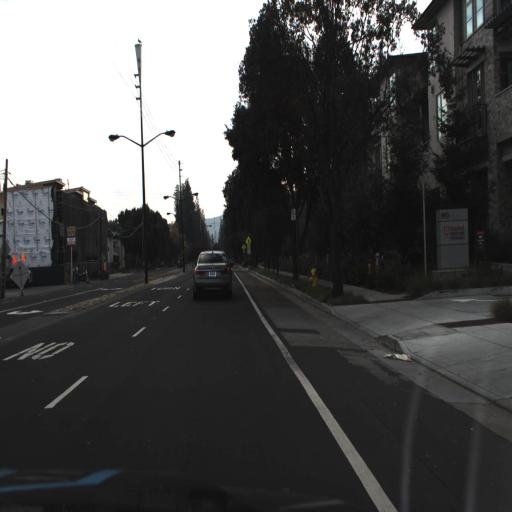car: (189, 247, 235, 304)
